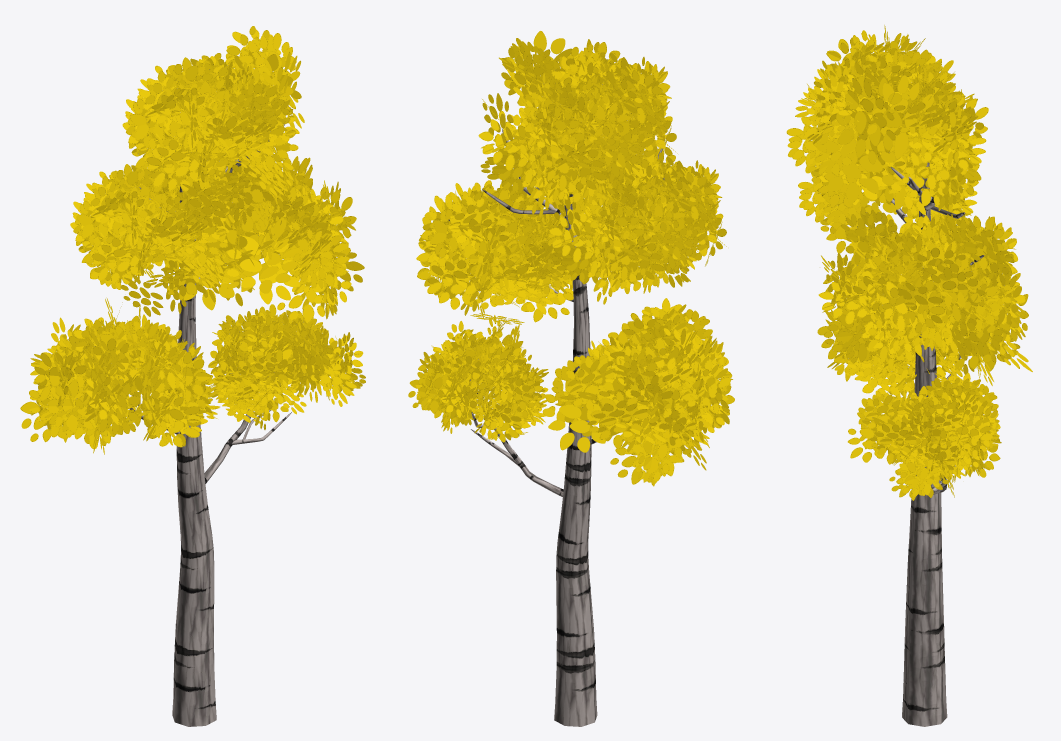
File: BirchTree_1.glb
3 views of the same model, side by side, from view 1: azimuth 30°, elevation 25°; view 2: azimuth 150°, elevation 25°; view 3: azimuth 270°, elevation 25° (orthographic). The views are drawn at different scales.
Bounding box in the file's own units: 2.71 × 5.45 × 1.94.
2 materials, 2 textured.
